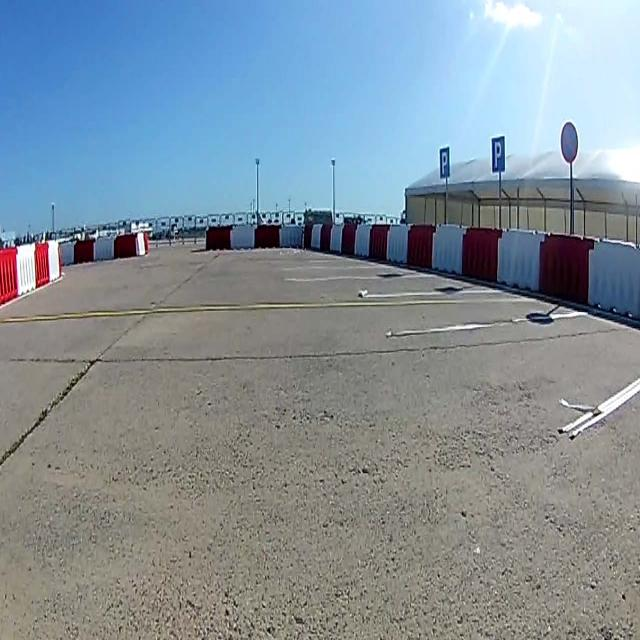park: (491, 135, 506, 173), (440, 146, 450, 178)
parkyasak: (560, 121, 578, 164)
